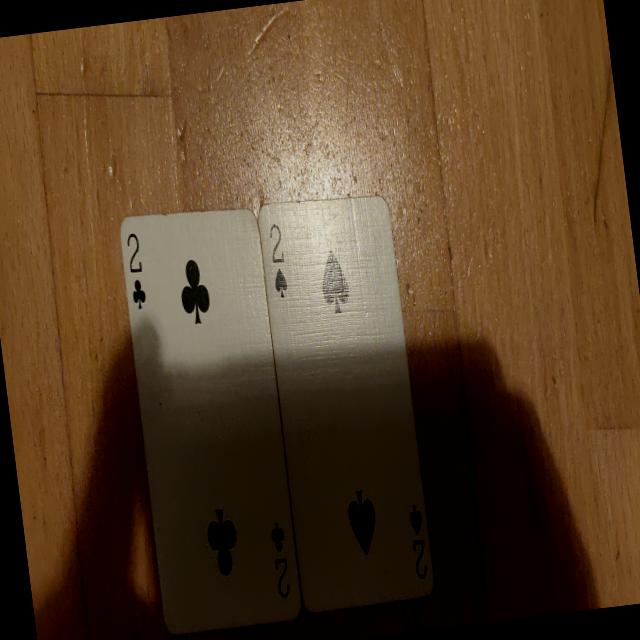Club: (205, 507, 241, 576), (176, 258, 212, 326), (131, 279, 147, 309), (270, 522, 286, 552)
Spade: (346, 488, 380, 558), (318, 248, 351, 314), (408, 503, 423, 536), (273, 268, 288, 298)
